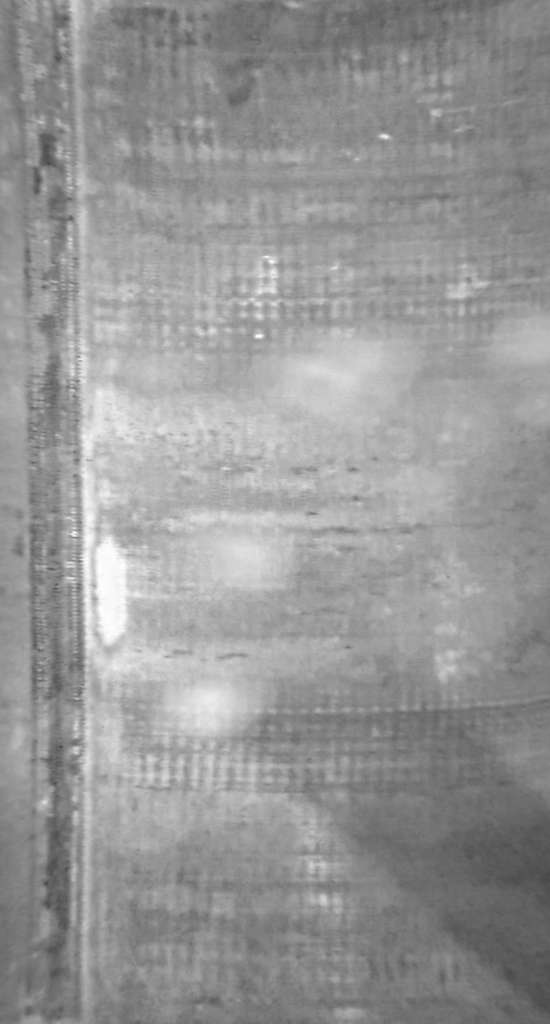splice: (9, 3, 97, 1024)
